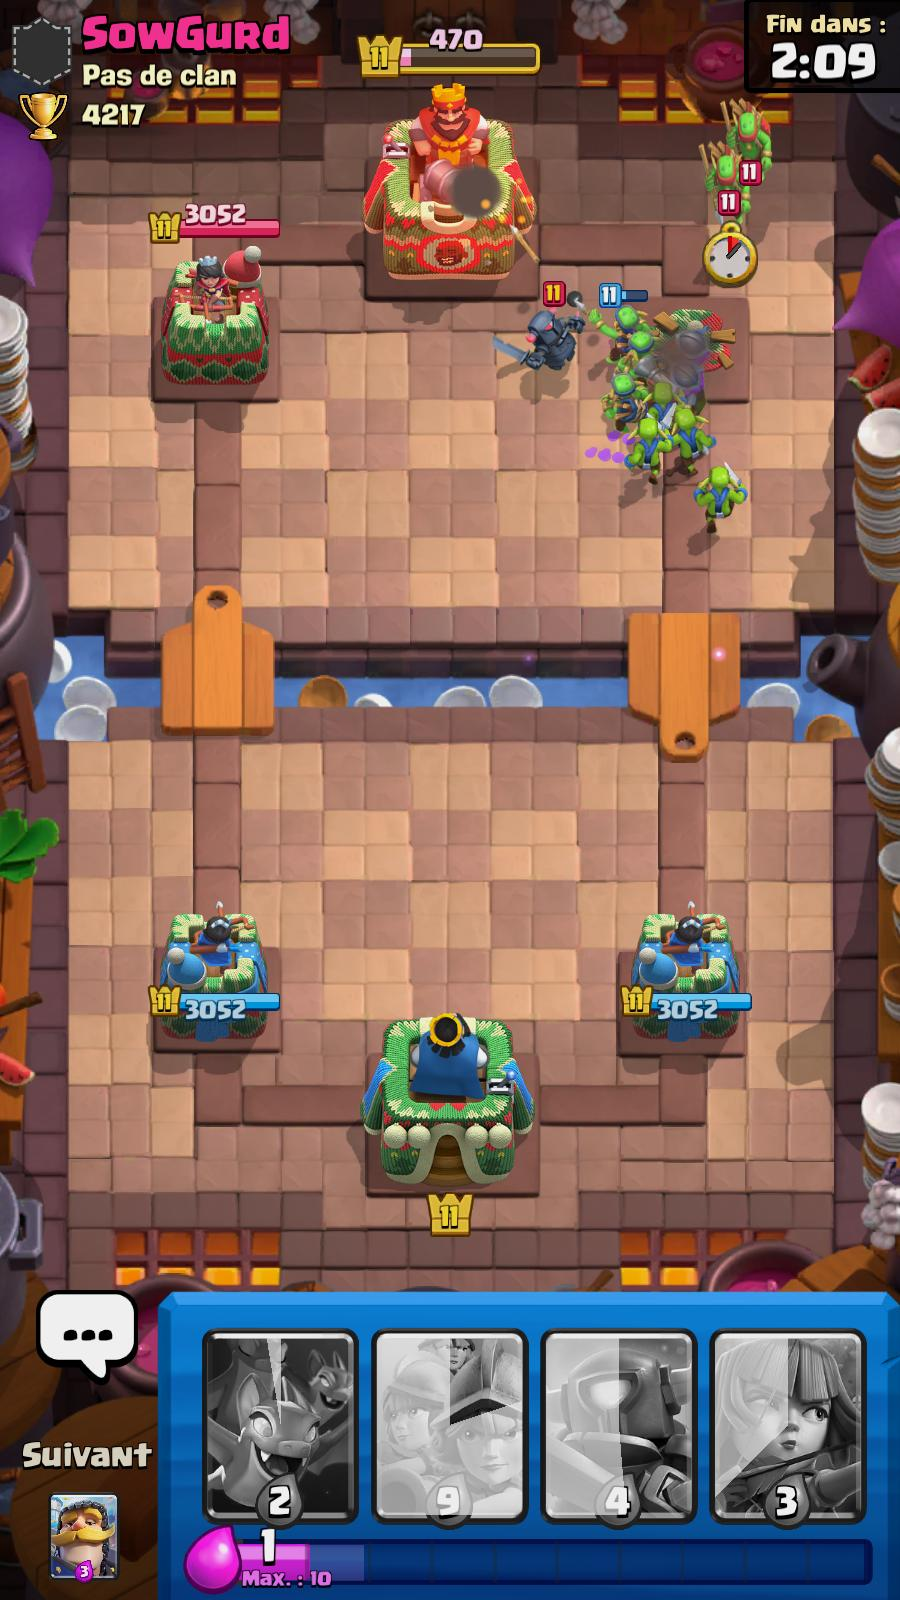gobelin: (623, 421, 673, 487), (693, 463, 741, 529), (673, 409, 705, 470), (653, 380, 676, 425)
gobelin_lances: (699, 141, 752, 221), (592, 282, 644, 364), (729, 100, 769, 179), (612, 371, 642, 433), (621, 329, 662, 369)
mini_PEKKA: (499, 282, 584, 374)
mousquetaire: (666, 362, 712, 415), (665, 326, 710, 374)
